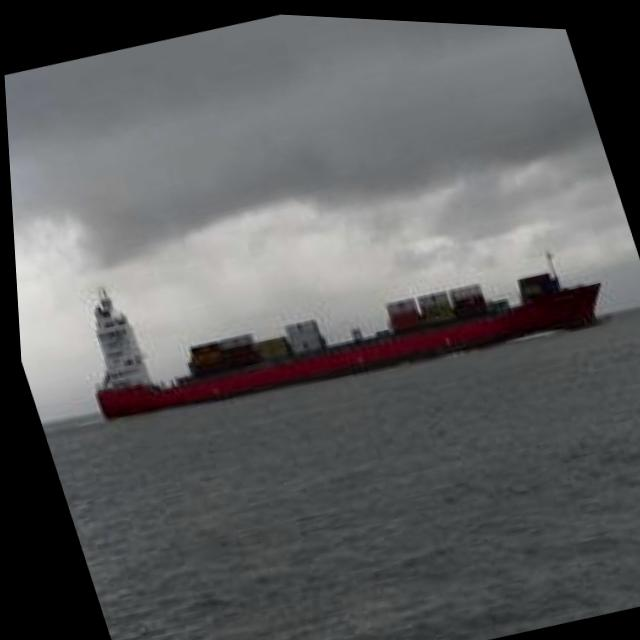ship2: (86, 241, 602, 418)
